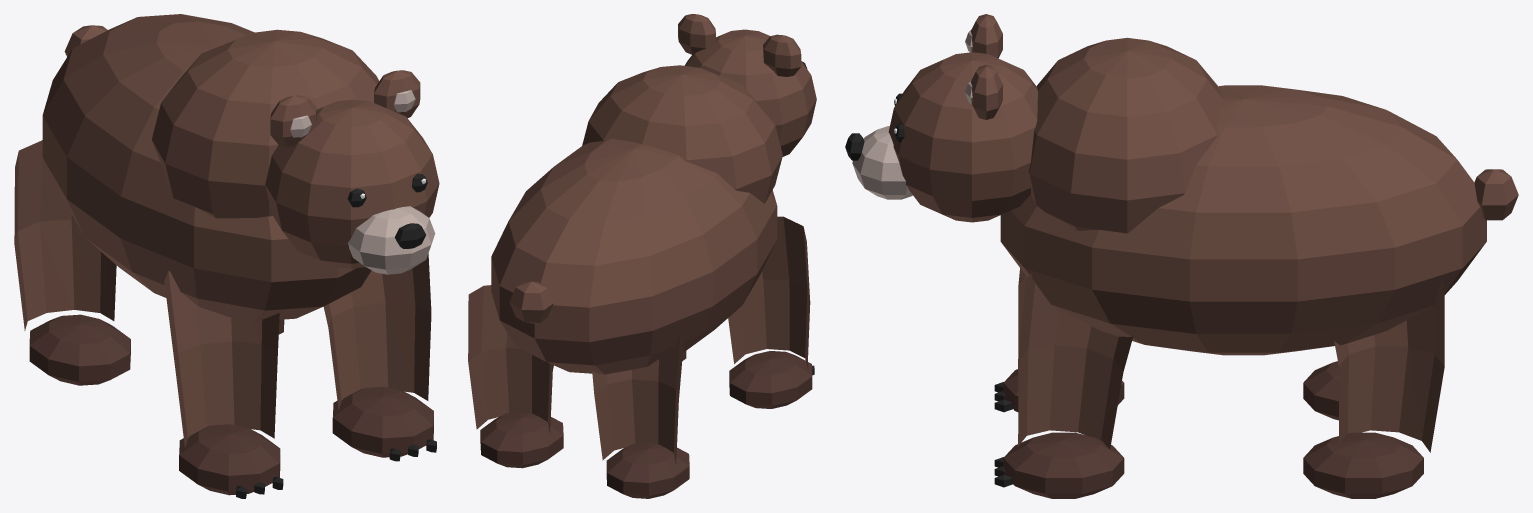
File: bjorn.glb
3 views of the same model, side by side, from view 1: azimuth 30°, elevation 25°; view 2: azimuth 150°, elevation 25°; view 3: azimuth 270°, elevation 25° (orthographic). The views are drawn at different scales.
Parts seen in each view (by area): view 1: bjorn; view 2: bjorn; view 3: bjorn.
Boxes of the visible parts, bbox=[...] form: bjorn: bbox=[14, 14, 439, 498]; bjorn: bbox=[468, 14, 816, 498]; bjorn: bbox=[845, 14, 1518, 498].
Size of the model in its own units: 0.8066 by 1.29 by 1.91.
